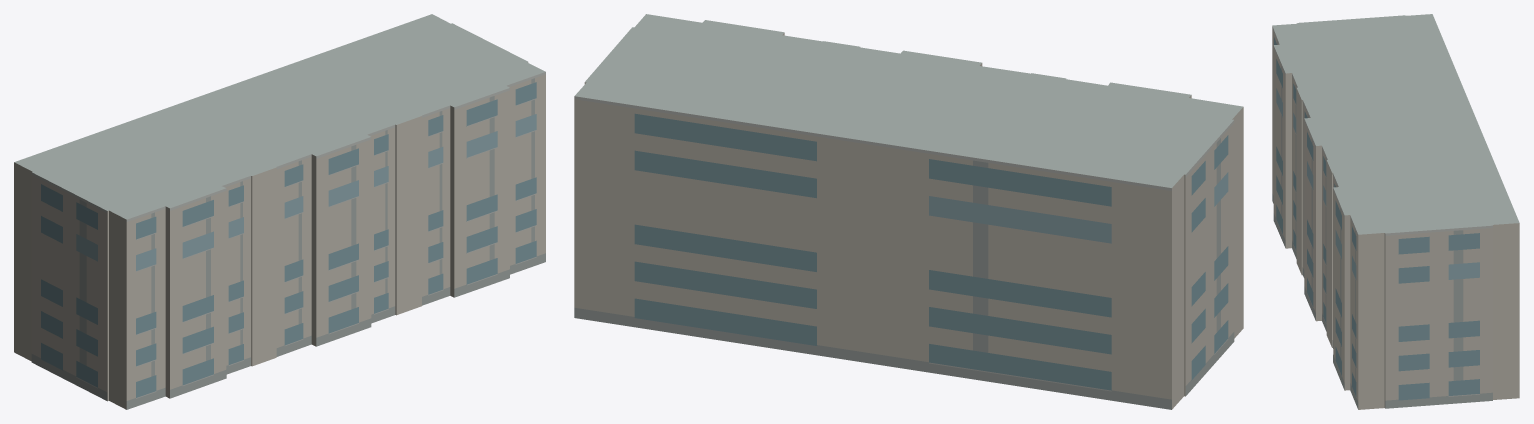
Rendered from survey-upis-33006048.glb.
3 renders of one model, left to right at view 1: azimuth 30°, elevation 25°; view 2: azimuth 150°, elevation 25°; view 3: azimuth 270°, elevation 25°, orthographic. The views are drawn at different scales.
Visible parts, largest first — view 1: survey-upis-33006048.tmp; view 2: survey-upis-33006048.tmp; view 3: survey-upis-33006048.tmp.
Boxes of the visible parts, left/top/right/bottom form: survey-upis-33006048.tmp: left=14, top=14, right=545, bottom=409; survey-upis-33006048.tmp: left=574, top=14, right=1243, bottom=409; survey-upis-33006048.tmp: left=1272, top=14, right=1519, bottom=409.
Bounding box in the file's own units: 49.46 × 18.3 × 23.44.
